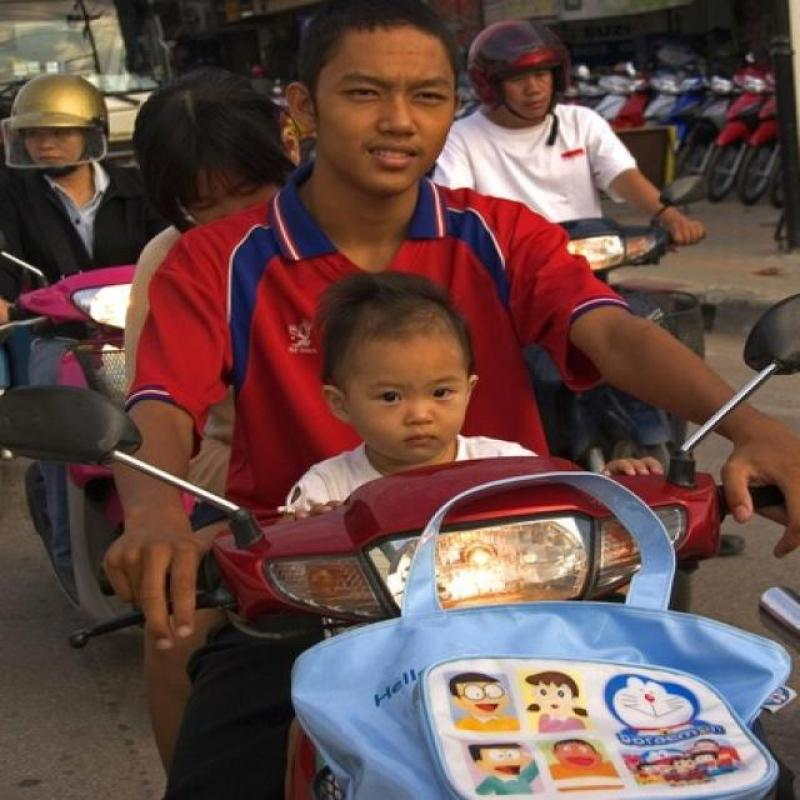nohelmet: (294, 0, 473, 186), (318, 285, 469, 470)
